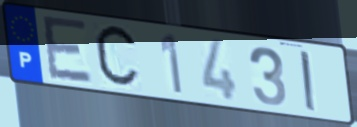1: (158, 31, 185, 97)
3: (247, 44, 287, 107)
4: (199, 37, 240, 104)
C: (91, 22, 142, 92)
E: (39, 13, 95, 85)
I: (297, 49, 319, 114)
